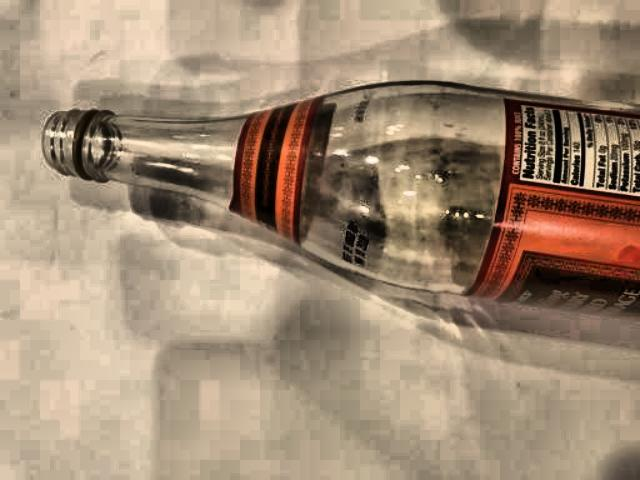Bottles: (7, 48, 640, 349)
